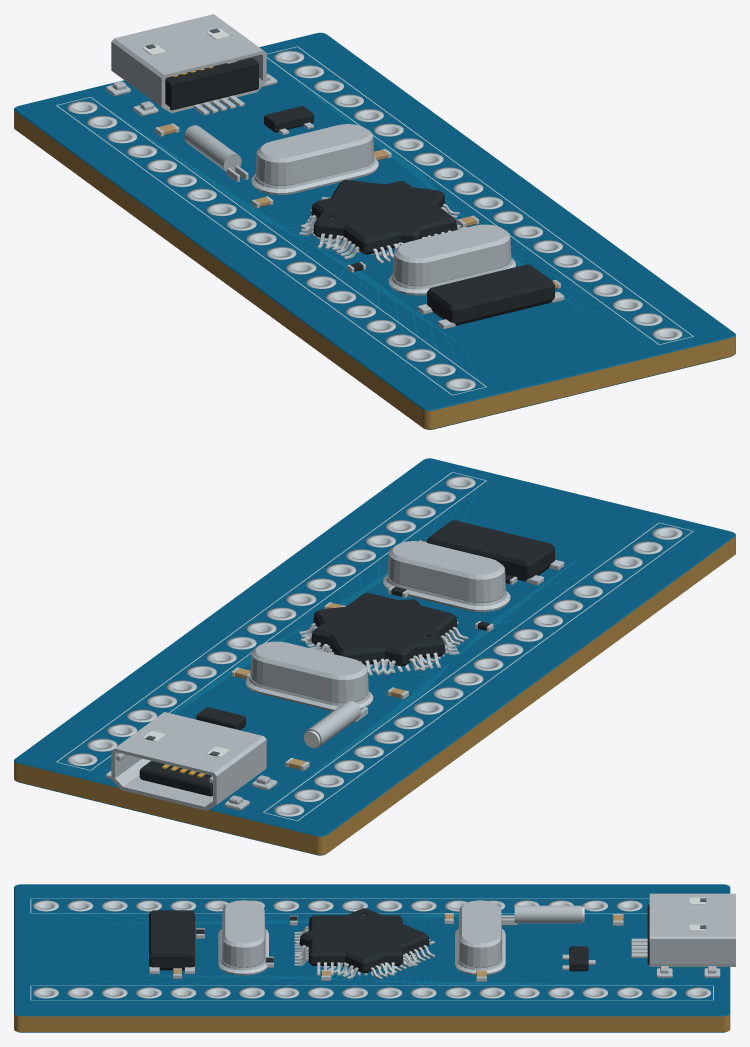
Rendered from blue-pill-detail.glb.
The picture shows the model from 3 angles, top to bottom: view 1: azimuth 30°, elevation 25°; view 2: azimuth 150°, elevation 25°; view 3: azimuth 270°, elevation 25°; orthographic projection. The views are drawn at different scales.
Parts seen in each view (by area): view 1: BP_PCB_MASK_AND_LAMINATE, BP_PLATED_HEADER_HOLES, BP_INSPECTION_CRYSTALS, BP_BENCH_CRYSTALS_AND_PASSIVES, BP_USB_STAMPED_OPEN_SHELL, BP_TRACE_AND_PIN_ROW_INK, BP_CHIP_INSPECTION_PACKAGE, BP_USB_TONGUE_AND_FIVE_CONTACTS, BP_CHIP_BENCH_PACKAGE, BP_CHIP_BENCH_48_GULLWING_LEADS; view 2: BP_PCB_MASK_AND_LAMINATE, BP_PLATED_HEADER_HOLES, BP_INSPECTION_CRYSTALS, BP_USB_STAMPED_OPEN_SHELL, BP_BENCH_CRYSTALS_AND_PASSIVES, BP_TRACE_AND_PIN_ROW_INK, BP_CHIP_BENCH_PACKAGE, BP_CHIP_INSPECTION_PACKAGE, BP_USB_TONGUE_AND_FIVE_CONTACTS, BP_CHIP_INSPECTION_48_GULLWING_LEADS, BP_CHIP_BENCH_48_GULLWING_LEADS; view 3: BP_PCB_MASK_AND_LAMINATE, BP_PLATED_HEADER_HOLES, BP_USB_STAMPED_OPEN_SHELL, BP_BENCH_CRYSTALS_AND_PASSIVES, BP_INSPECTION_CRYSTALS, BP_TRACE_AND_PIN_ROW_INK, BP_CHIP_INSPECTION_PACKAGE, BP_CHIP_BENCH_PACKAGE, BP_CHIP_INSPECTION_48_GULLWING_LEADS, BP_CHIP_BENCH_48_GULLWING_LEADS, BP_USB_TONGUE_AND_FIVE_CONTACTS.
Boxes of the visible parts, x1,y1,x2,y2 form: BP_PCB_MASK_AND_LAMINATE: [14, 32, 735, 429]; BP_PLATED_HEADER_HOLES: [67, 50, 682, 390]; BP_INSPECTION_CRYSTALS: [388, 224, 564, 329]; BP_BENCH_CRYSTALS_AND_PASSIVES: [155, 106, 560, 288]; BP_USB_STAMPED_OPEN_SHELL: [105, 14, 277, 116]; BP_TRACE_AND_PIN_ROW_INK: [56, 46, 693, 395]; BP_CHIP_INSPECTION_PACKAGE: [313, 180, 445, 243]; BP_USB_TONGUE_AND_FIVE_CONTACTS: [165, 58, 258, 115]; BP_CHIP_BENCH_PACKAGE: [311, 181, 457, 254]; BP_CHIP_BENCH_48_GULLWING_LEADS: [300, 209, 467, 263]; BP_PCB_MASK_AND_LAMINATE: [14, 458, 735, 855]; BP_PLATED_HEADER_HOLES: [67, 476, 682, 816]; BP_INSPECTION_CRYSTALS: [383, 520, 564, 611]; BP_USB_STAMPED_OPEN_SHELL: [105, 712, 277, 810]; BP_BENCH_CRYSTALS_AND_PASSIVES: [196, 540, 517, 771]; BP_TRACE_AND_PIN_ROW_INK: [56, 472, 693, 820]; BP_CHIP_BENCH_PACKAGE: [311, 592, 457, 666]; BP_CHIP_INSPECTION_PACKAGE: [313, 599, 445, 664]; BP_USB_TONGUE_AND_FIVE_CONTACTS: [139, 761, 212, 796]; BP_CHIP_INSPECTION_48_GULLWING_LEADS: [299, 623, 459, 675]; BP_CHIP_BENCH_48_GULLWING_LEADS: [300, 621, 468, 675]; BP_PCB_MASK_AND_LAMINATE: [14, 884, 730, 1032]; BP_PLATED_HEADER_HOLES: [33, 900, 710, 998]; BP_USB_STAMPED_OPEN_SHELL: [649, 893, 735, 977]; BP_BENCH_CRYSTALS_AND_PASSIVES: [173, 900, 623, 981]; BP_INSPECTION_CRYSTALS: [149, 900, 268, 975]; BP_TRACE_AND_PIN_ROW_INK: [30, 898, 713, 1000]; BP_CHIP_INSPECTION_PACKAGE: [299, 908, 429, 973]; BP_CHIP_BENCH_PACKAGE: [308, 915, 403, 965]; BP_CHIP_INSPECTION_48_GULLWING_LEADS: [294, 939, 435, 979]; BP_CHIP_BENCH_48_GULLWING_LEADS: [294, 926, 417, 975]; BP_USB_TONGUE_AND_FIVE_CONTACTS: [631, 904, 649, 964].
Bounding box in the file's own units: 2.3 × 0.5195 × 5.34.
